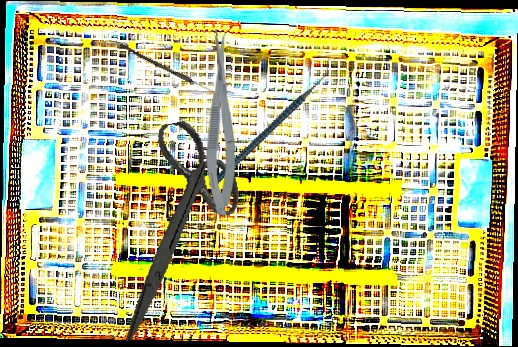Chopper: (182, 57, 359, 189)
Iris Scissors: (82, 112, 265, 342)
Micro Scissor: (205, 28, 239, 216)
Surgical Spoon: (118, 43, 219, 96)
